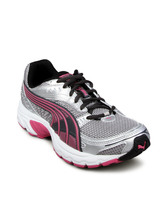shoes: (12, 57, 157, 172)
